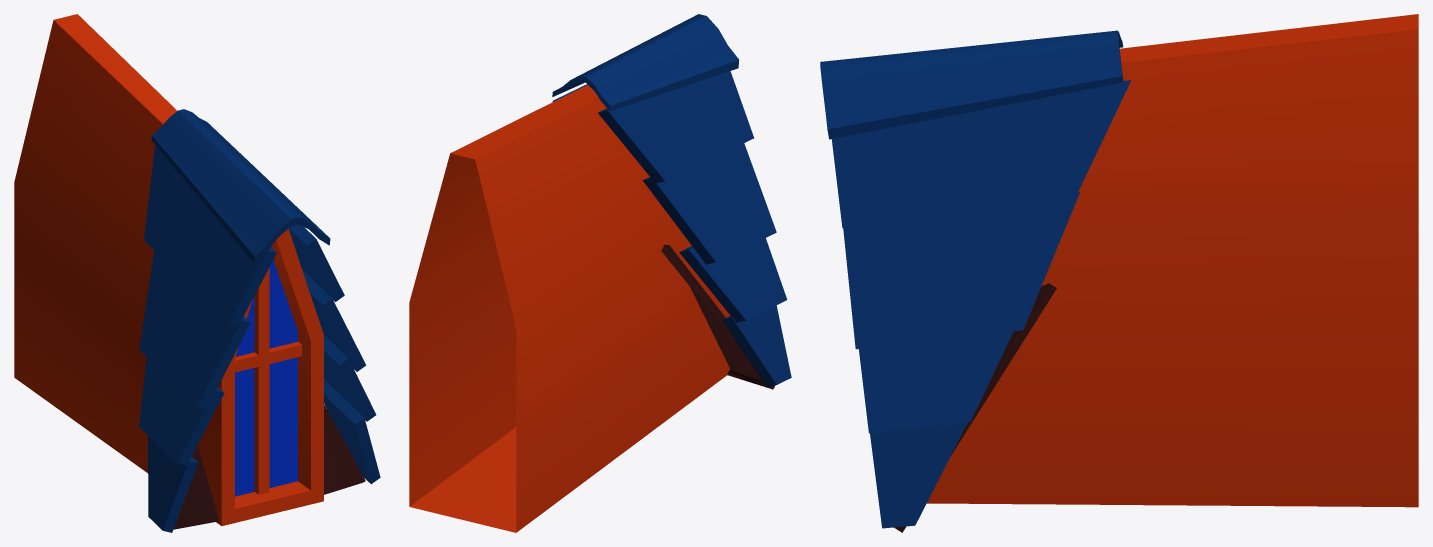
Rendered from TowerWindow_01.fbx.
The picture shows the model from 3 angles, left to right: view 1: azimuth 30°, elevation 25°; view 2: azimuth 150°, elevation 25°; view 3: azimuth 270°, elevation 25°; orthographic projection. The views are drawn at different scales.
Visible parts, largest first — view 1: TowerWindow_01; view 2: TowerWindow_01; view 3: TowerWindow_01.
Part boxes in pixels (x1,y1,x2,y2): TowerWindow_01: [14, 14, 380, 532]; TowerWindow_01: [409, 14, 791, 532]; TowerWindow_01: [820, 14, 1418, 532].
Bounding box in the file's own units: 202 × 308 × 368.
